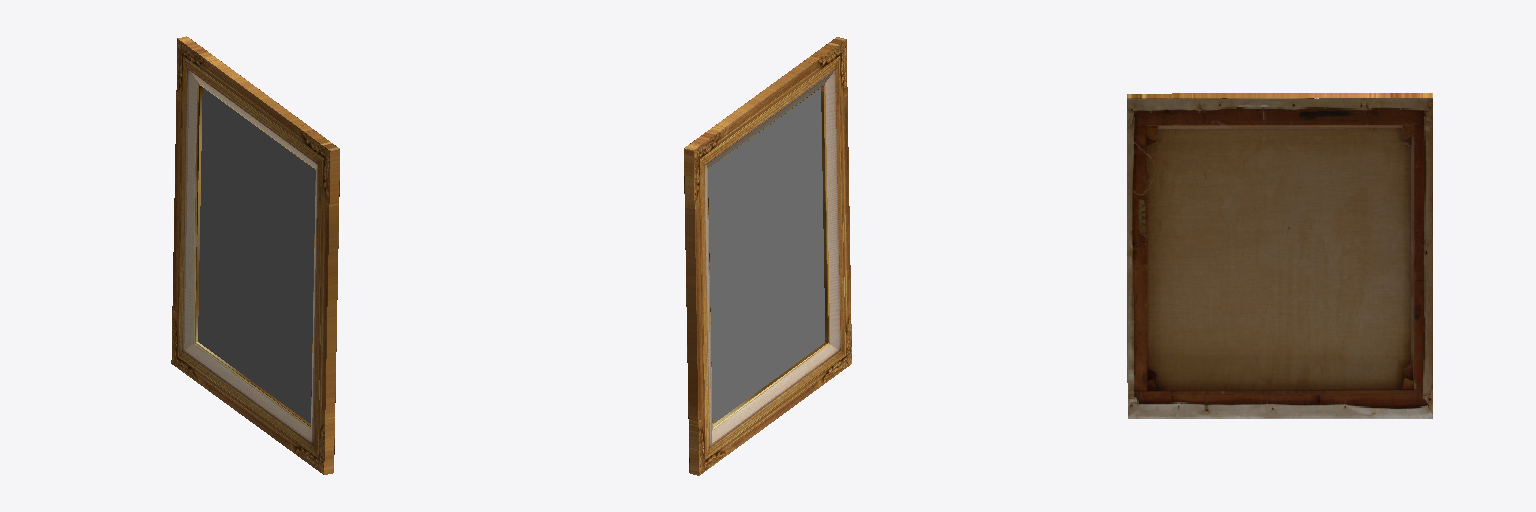
The picture shows the model from 3 angles: view 1: azimuth 30°, elevation 25°; view 2: azimuth 150°, elevation 25°; view 3: azimuth 270°, elevation 25°; orthographic projection.
Visible parts, largest first — view 1: Canvas, Frame; view 2: Canvas, Frame; view 3: Back, Frame.
Boxes of the visible parts, box(x1,y1,x2,y2) form: Canvas: box(198, 88, 315, 423); Frame: box(171, 36, 339, 474); Canvas: box(708, 88, 824, 423); Frame: box(684, 37, 851, 475); Back: box(1127, 98, 1432, 418); Frame: box(1127, 93, 1432, 382).
Size of the model in its own units: 2.72 by 52.78 by 45.21.
2 materials, 1 textured.